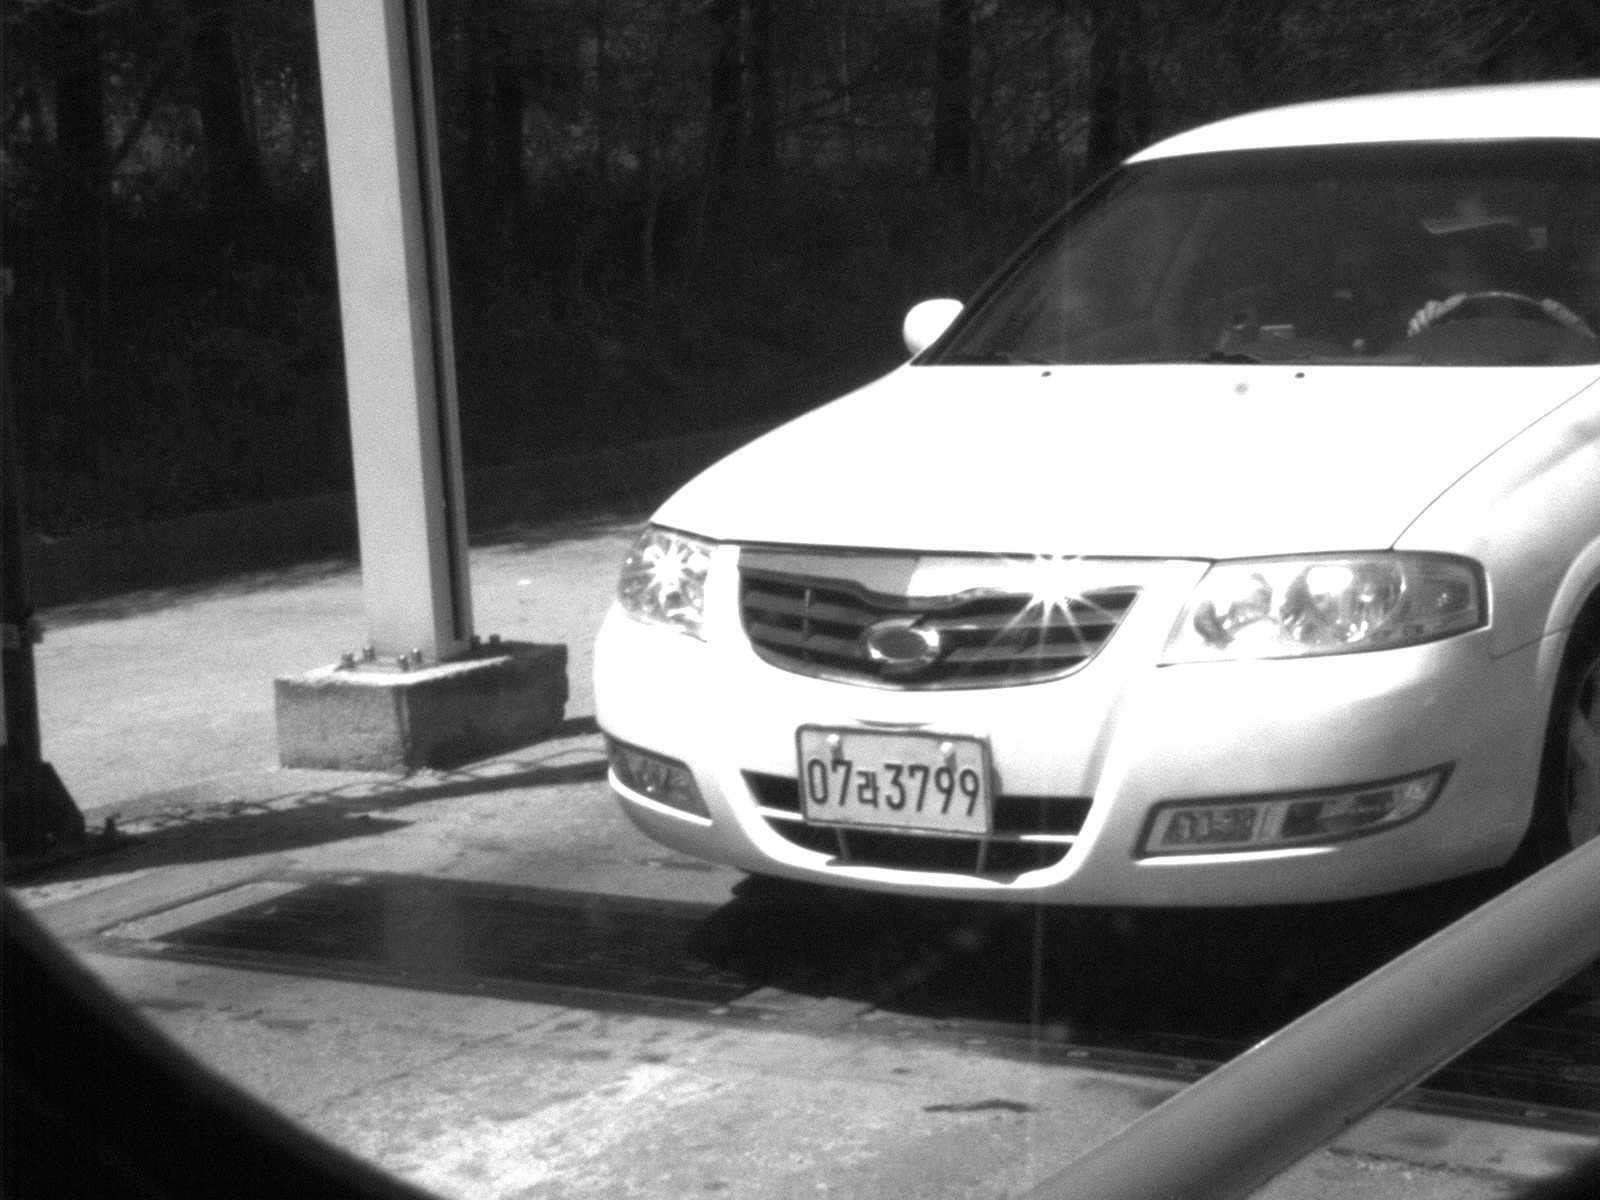car: (582, 77, 1600, 928)
plate: (794, 720, 996, 846)
